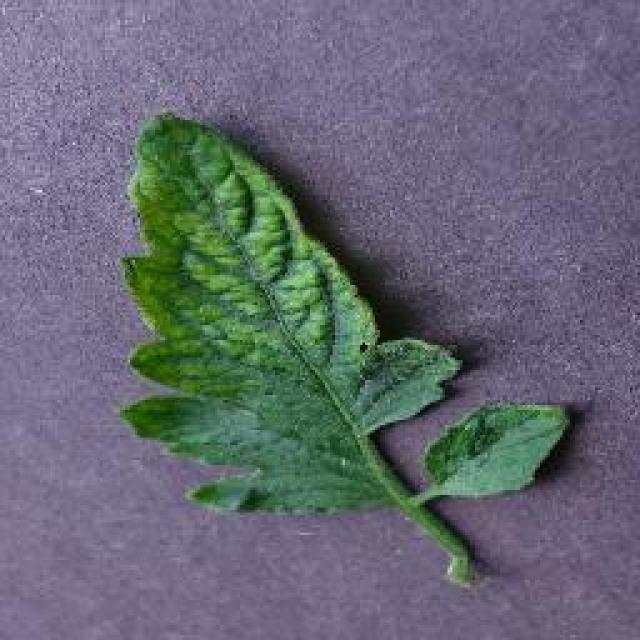Tomato spider mites leaf: (122, 112, 460, 518), (424, 401, 574, 504)
